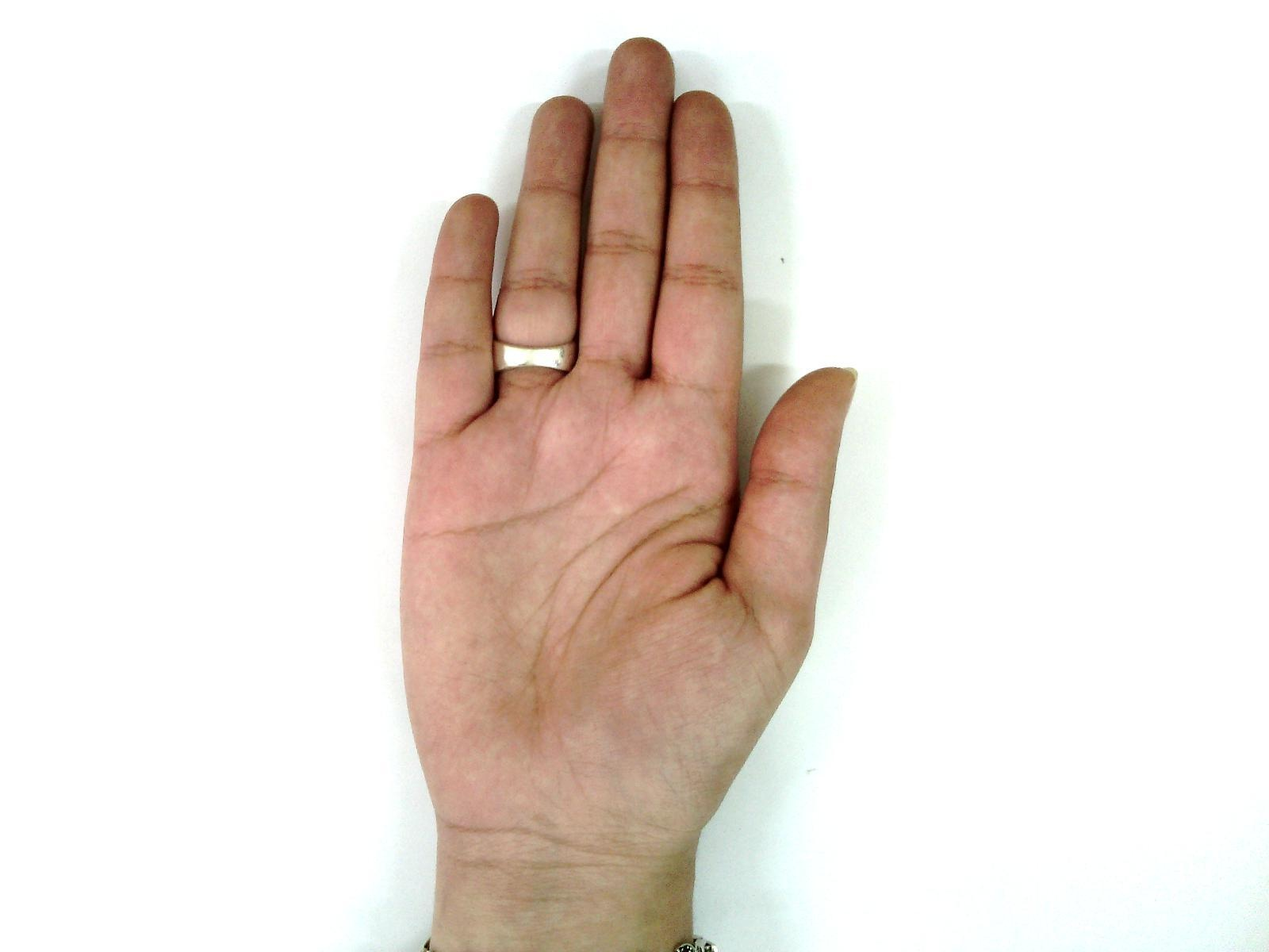open_palm: (394, 36, 860, 850)
